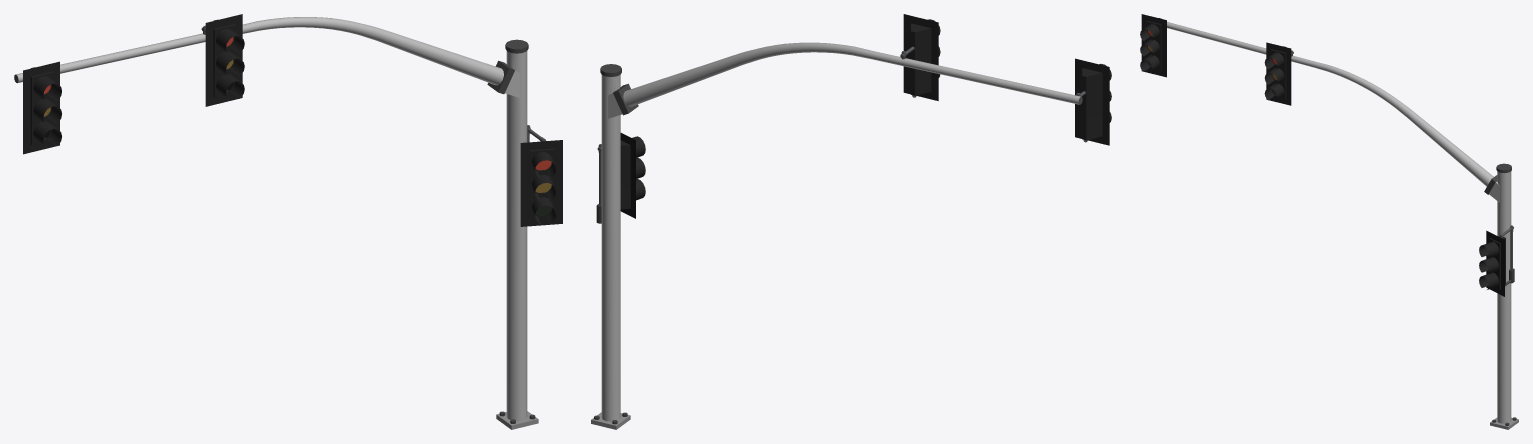
The model's file is signal2.glb.
3 renders of one model, left to right at view 1: azimuth 30°, elevation 25°; view 2: azimuth 150°, elevation 25°; view 3: azimuth 330°, elevation 25°, orthographic. The views are drawn at different scales.
Parts seen in each view (by area): view 1: signal2; view 2: signal2; view 3: signal2.
Boxes of the visible parts, x1=… form: signal2: x1=14, y1=14, x2=562, y2=429; signal2: x1=591, y1=14, x2=1111, y2=429; signal2: x1=1140, y1=14, x2=1518, y2=429.
Size of the model in its own units: 8.83 by 7.75 by 1.11.
Materials: 1 (1 with a texture image).
